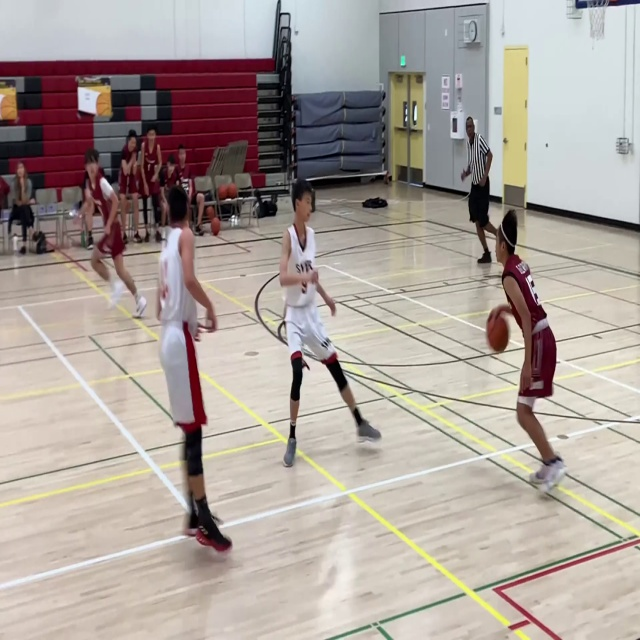Basketball: (486, 304, 511, 352), (217, 183, 238, 200), (210, 216, 220, 235), (227, 183, 238, 199), (217, 185, 227, 200), (205, 206, 215, 219)
